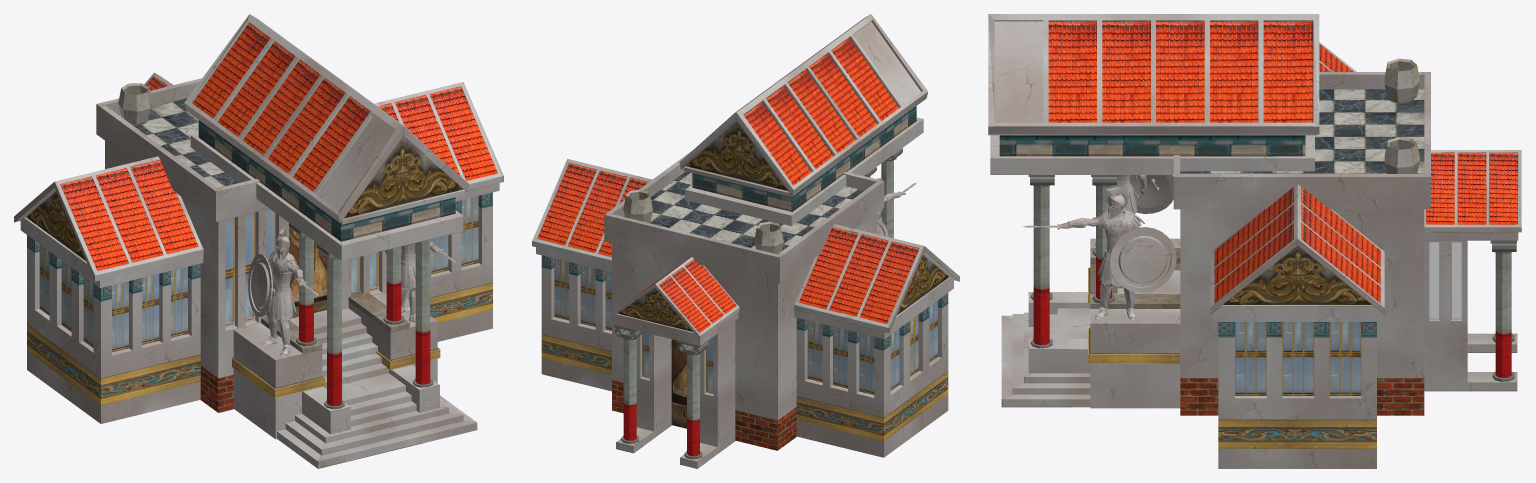
File: Town_Hall.glb
The picture shows the model from 3 angles, left to right: view 1: azimuth 30°, elevation 25°; view 2: azimuth 150°, elevation 25°; view 3: azimuth 270°, elevation 25°; orthographic projection. The views are drawn at different scales.
Visible parts, largest first — view 1: Town_Hall.001; view 2: Town_Hall.001; view 3: Town_Hall.001.
Part boxes in pixels (x1=…): Town_Hall.001: x1=14, y1=14, x2=503, y2=468; Town_Hall.001: x1=532, y1=14, x2=959, y2=468; Town_Hall.001: x1=988, y1=14, x2=1521, y2=468.
Bounding box in the file's own units: 6.38 × 4.91 × 6.72.
1 material, 1 textured.
